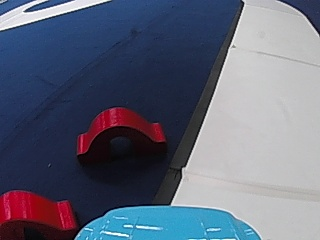bridge: (73, 101, 167, 163), (0, 186, 80, 236)
